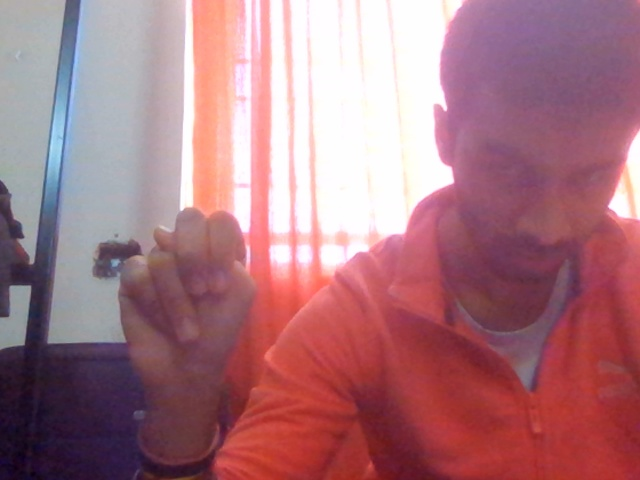N: (101, 176, 277, 455)
